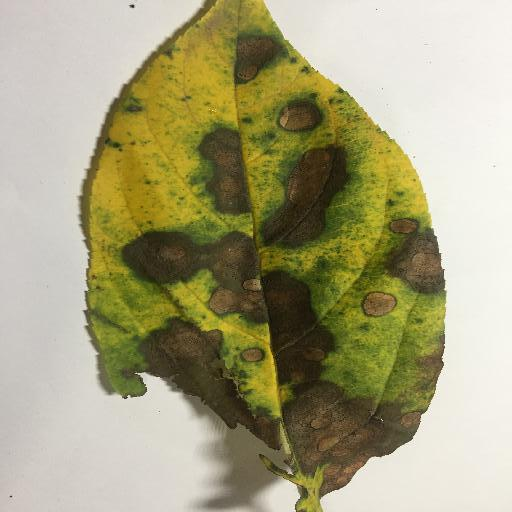Brown_Spot: (146, 334, 277, 461), (283, 377, 389, 496), (270, 153, 342, 239), (124, 241, 257, 287), (391, 216, 449, 288), (198, 131, 248, 210), (230, 37, 281, 89), (275, 102, 324, 133), (206, 294, 261, 318), (366, 293, 390, 316), (243, 353, 266, 367)
